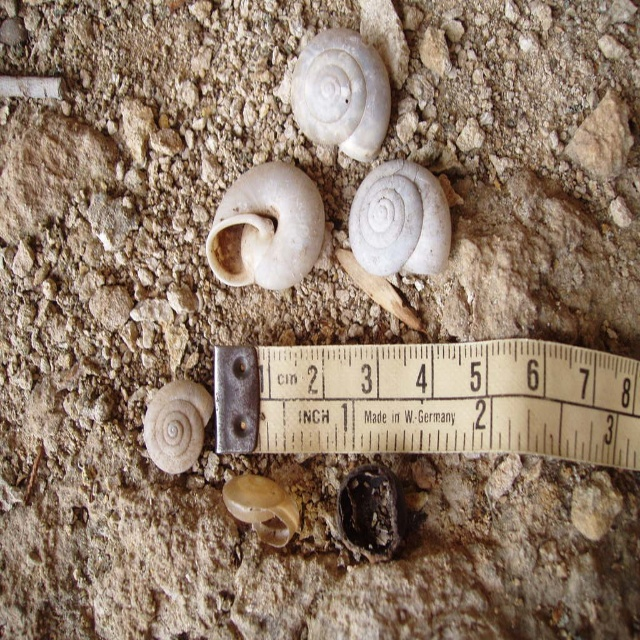Snail: (206, 164, 325, 292), (288, 29, 388, 166), (346, 156, 450, 281), (143, 375, 216, 474)
